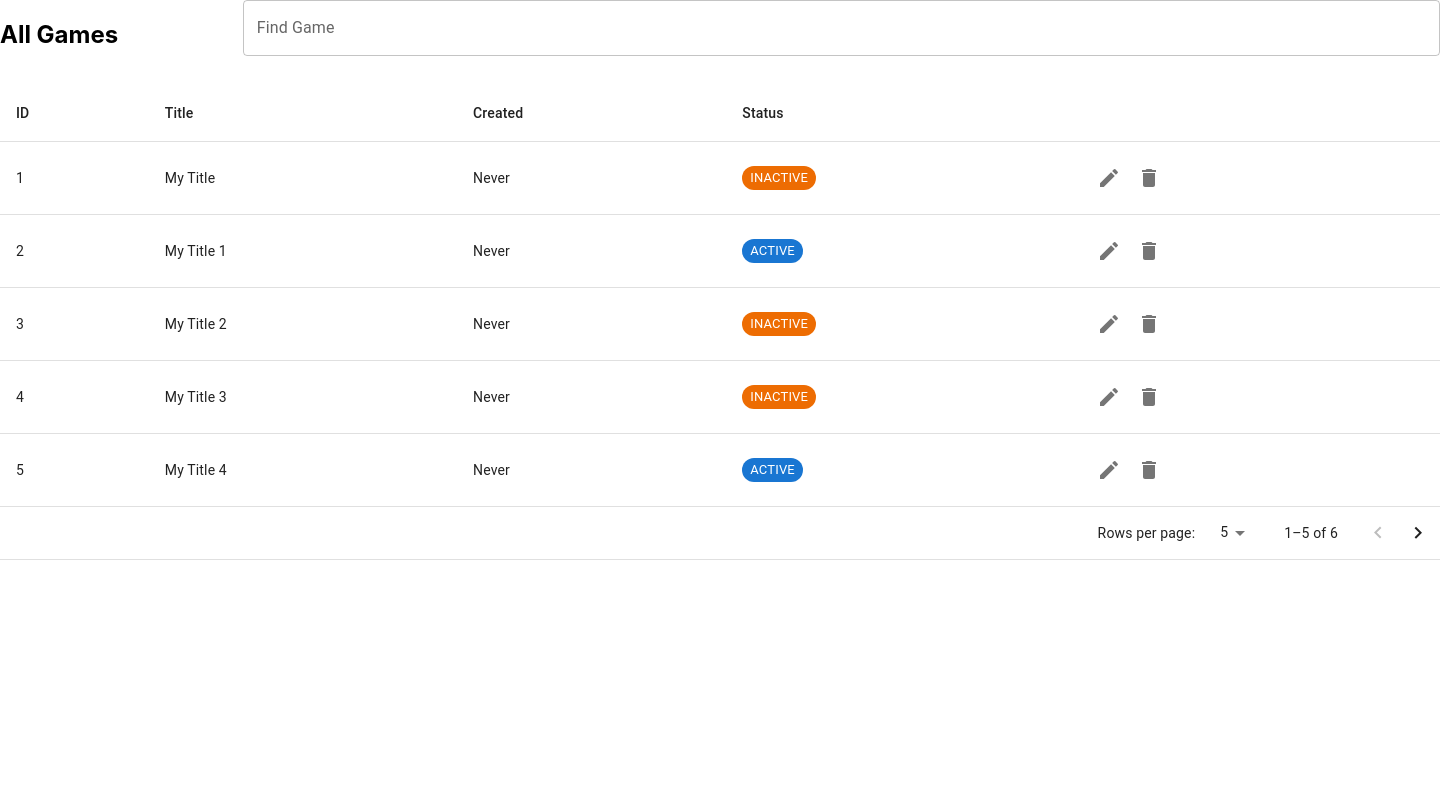
<GamesTable /> › close confirmation › dialog should exist
The image size is (1440, 810).
Click the button with id "delete5" at (1149, 470), box [1129,450,1169,490]
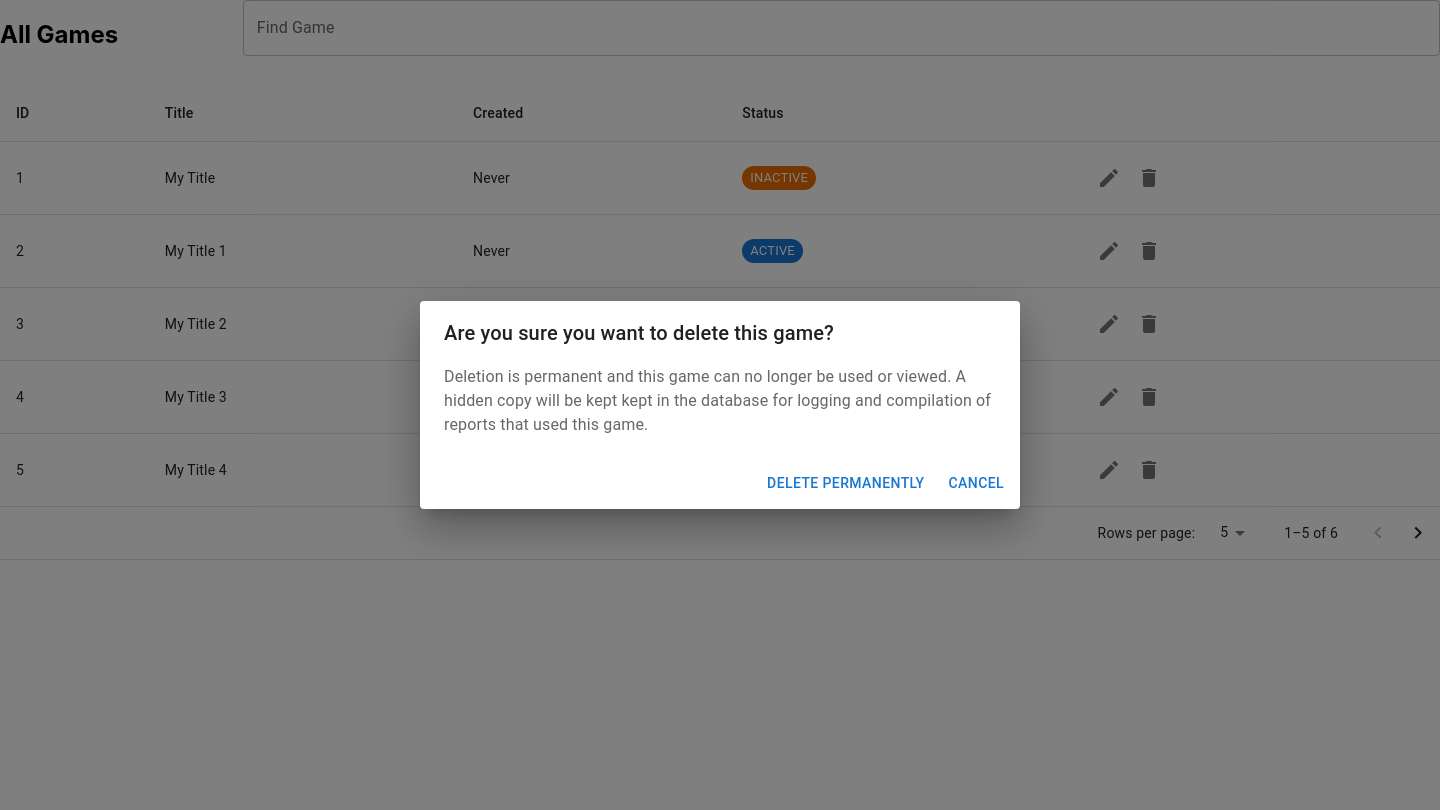
Now the element with id "confirm-dialog" is shown
